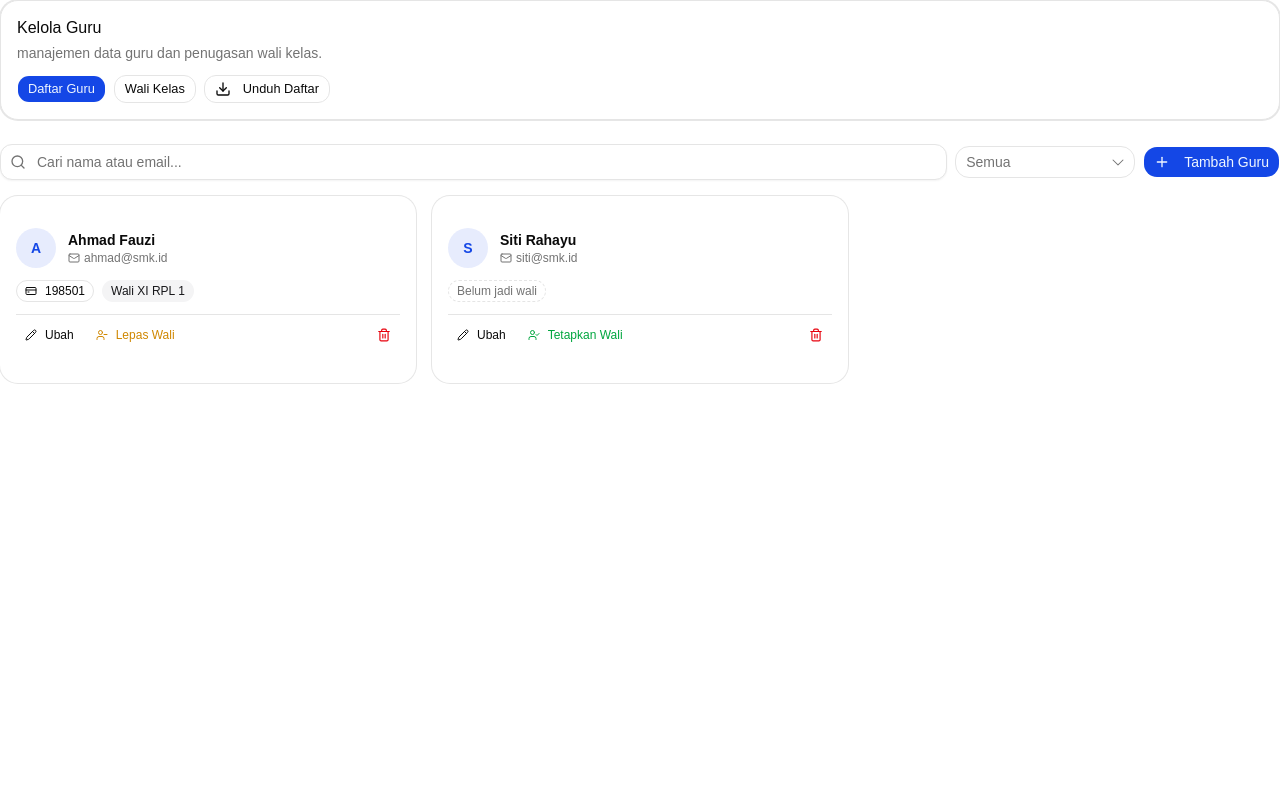
Test: KelolaGuruSection › create dialog Batal closes dialog
The width and height of the screenshot is (1280, 800).
What coordinates should you click on to do the following:
click the button "Tambah Guru"
I would click on:
 (1212, 162)
Its box is [1143,146,1279,178].
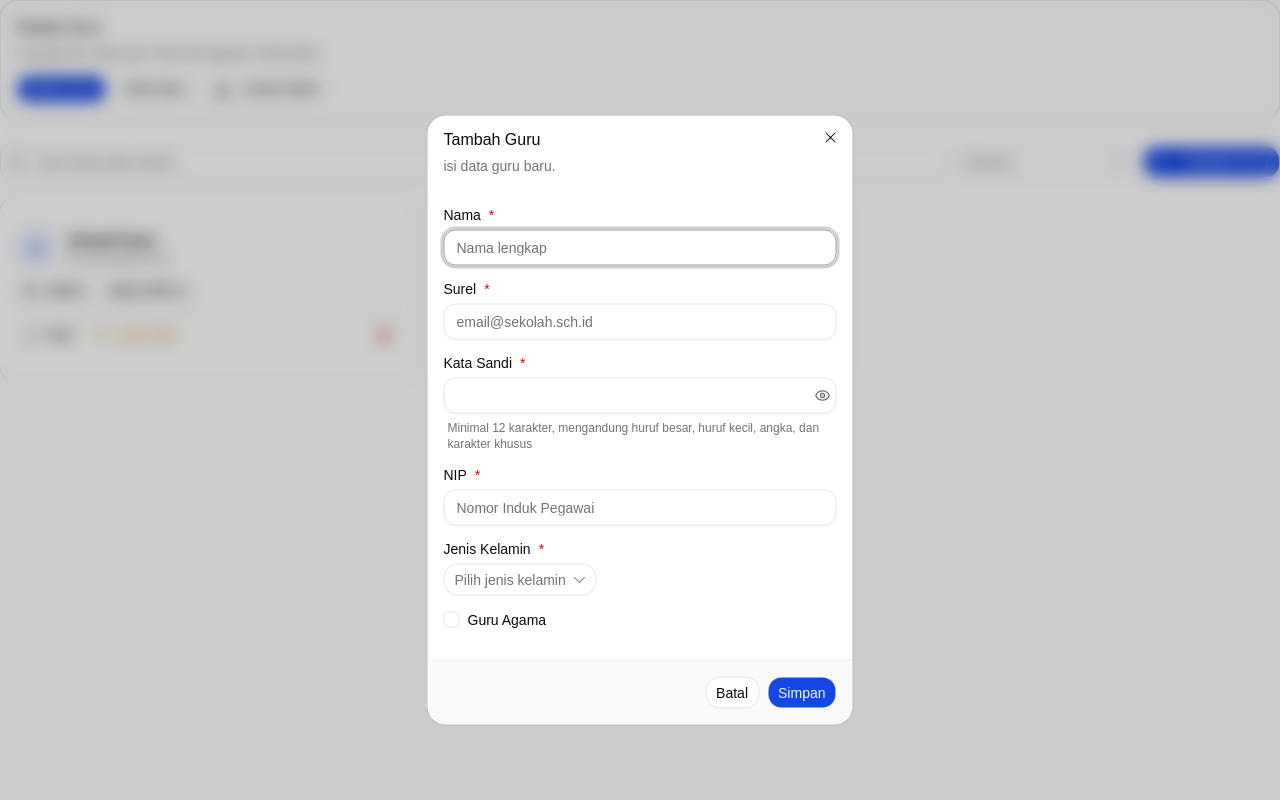
Now the text "isi data guru baru." is shown, box [444,158,556,174]
What coordinates should you click on to do the following:
click the button "Batal"
I would click on:
 (732, 692)
Its box is [705,676,759,708].
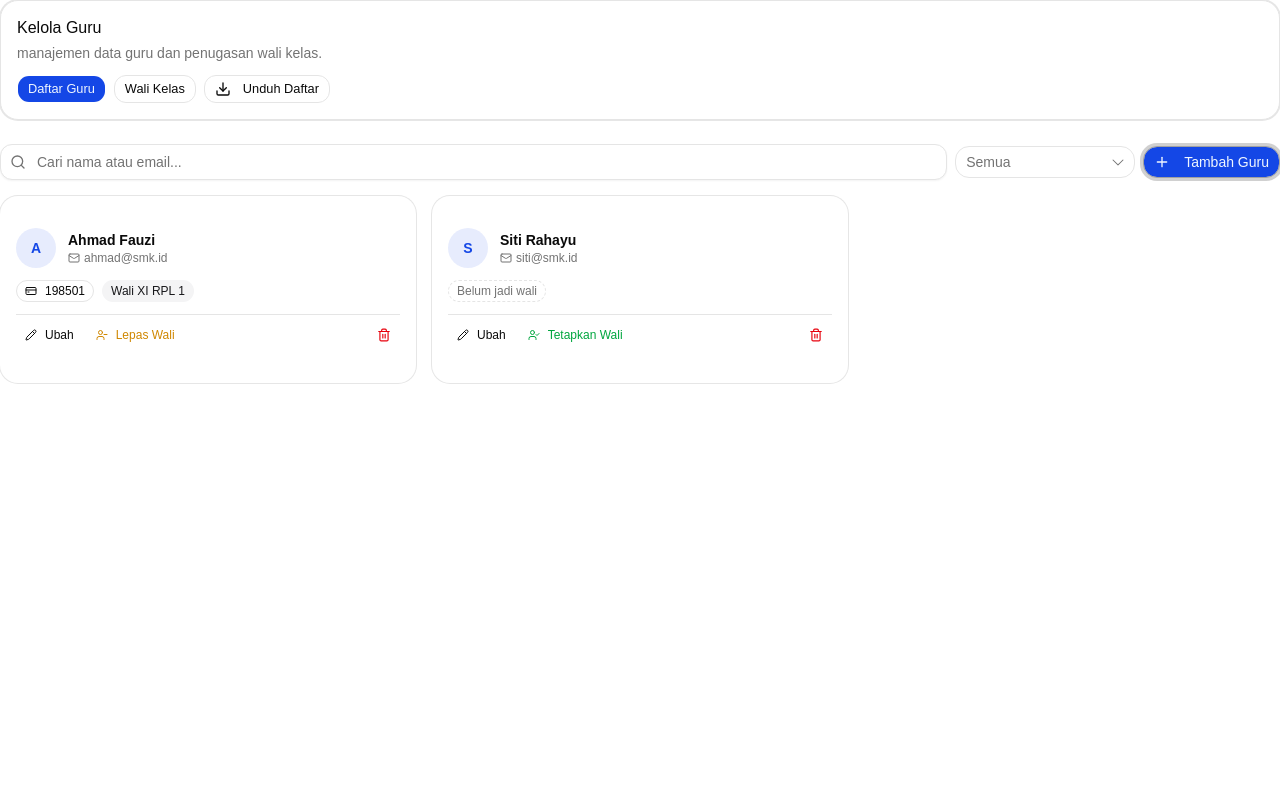
Now the text "isi data guru baru." is gone
